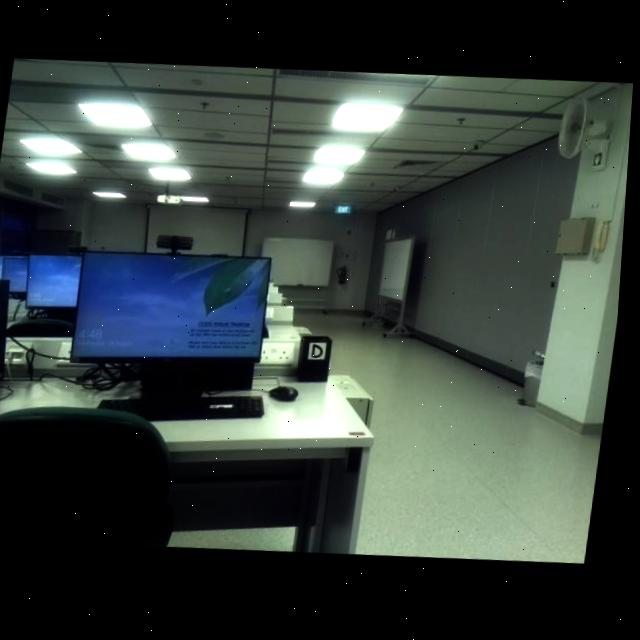D: (316, 345, 328, 361)
